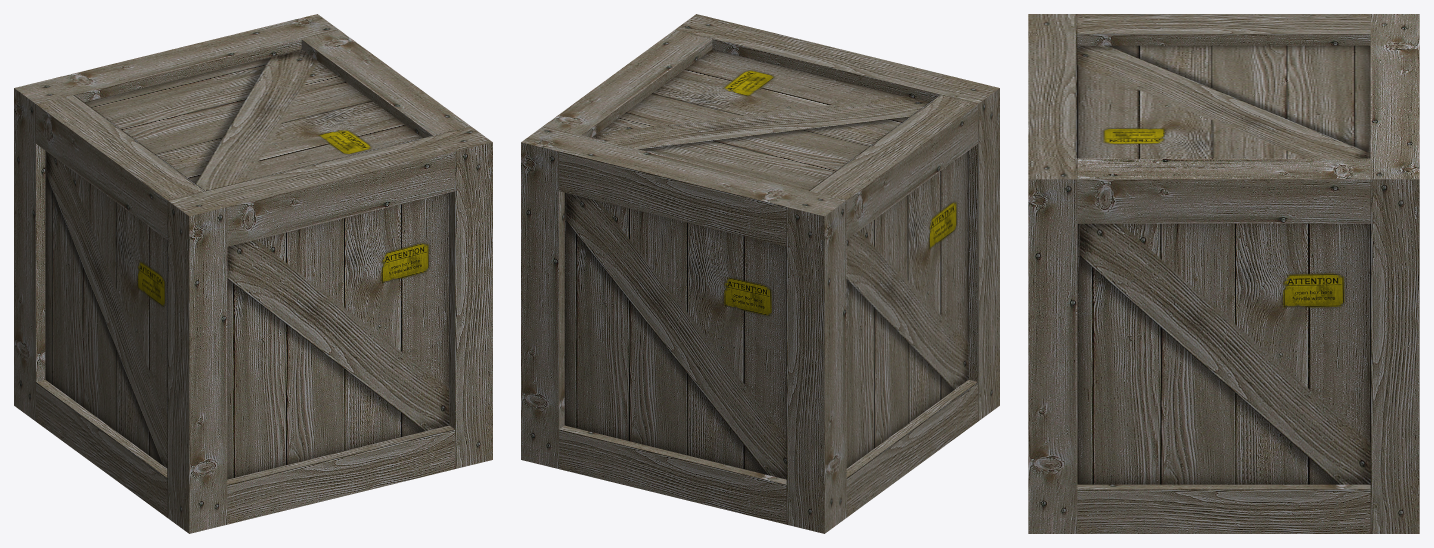
The model's file is woodb3.fbx.
The picture shows the model from 3 angles, left to right: view 1: azimuth 30°, elevation 25°; view 2: azimuth 150°, elevation 25°; view 3: azimuth 270°, elevation 25°; orthographic projection. The views are drawn at different scales.
Visible parts, largest first — view 1: woodb3_Layer1; view 2: woodb3_Layer1; view 3: woodb3_Layer1.
Boxes of the visible parts, x1=… form: woodb3_Layer1: x1=14, y1=14, x2=492, y2=533; woodb3_Layer1: x1=521, y1=14, x2=999, y2=533; woodb3_Layer1: x1=1028, y1=14, x2=1419, y2=533.
Bounding box in the file's own units: 64 × 64 × 64.
Materials: 1 (1 with a texture image).
